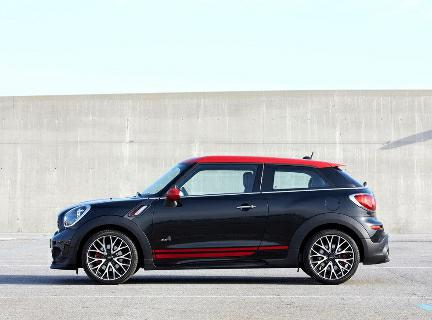MINI-JCWPACEMAN: (47, 152, 401, 287)
